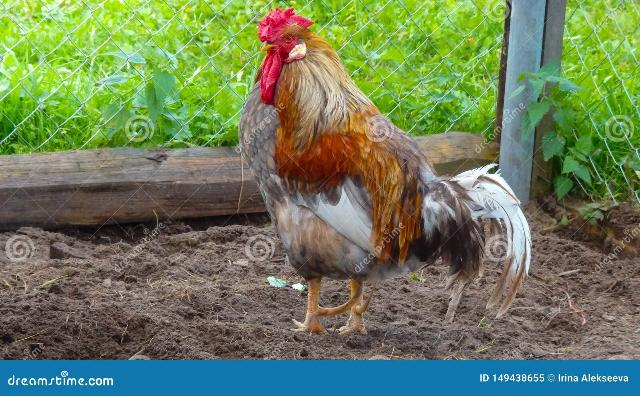Chicken: (238, 8, 531, 337)
